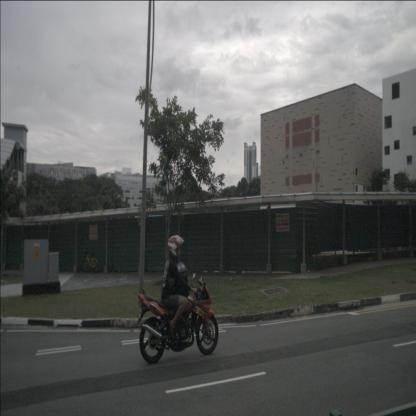vehicle-bicycle: (82, 248, 99, 274)
vehicle-motorcycle: (136, 235, 218, 364)
